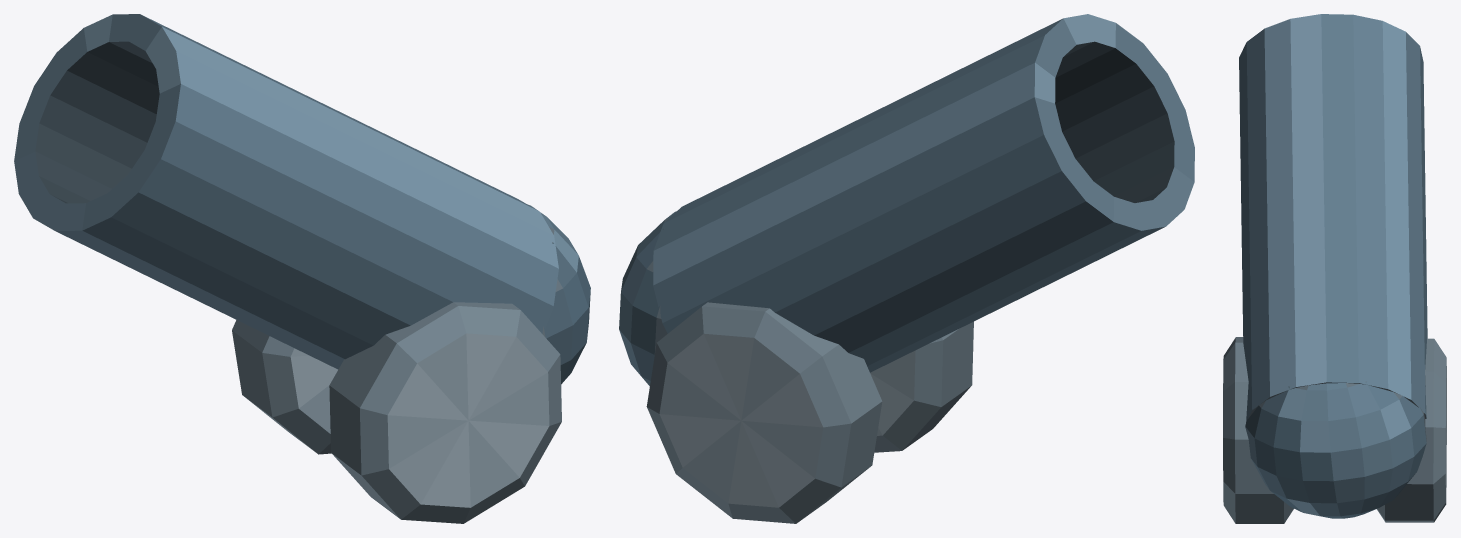
Rendered from schucannon.glb.
3 renders of one model, left to right at view 1: azimuth 30°, elevation 25°; view 2: azimuth 150°, elevation 25°; view 3: azimuth 270°, elevation 25°, orthographic. The views are drawn at different scales.
Parts seen in each view (by area): view 1: sphere.001, cylinder.002, cylinder.001; view 2: sphere.001, cylinder.001, cylinder.002; view 3: sphere.001, cylinder.002, cylinder.001.
Part boxes in pixels (box(x1,y1,x2,y2)): sphere.001: box(14, 14, 590, 384); cylinder.002: box(329, 302, 561, 523); cylinder.001: box(232, 320, 337, 454); sphere.001: box(619, 14, 1194, 386); cylinder.001: box(646, 302, 882, 523); cylinder.002: box(870, 321, 973, 452); sphere.001: box(1239, 14, 1427, 518); cylinder.002: box(1223, 337, 1293, 523); cylinder.001: box(1377, 338, 1446, 522).
Size of the model in its own units: 1.39 by 1.28 by 0.6339.
Materials: 3 (3 with a texture image).
